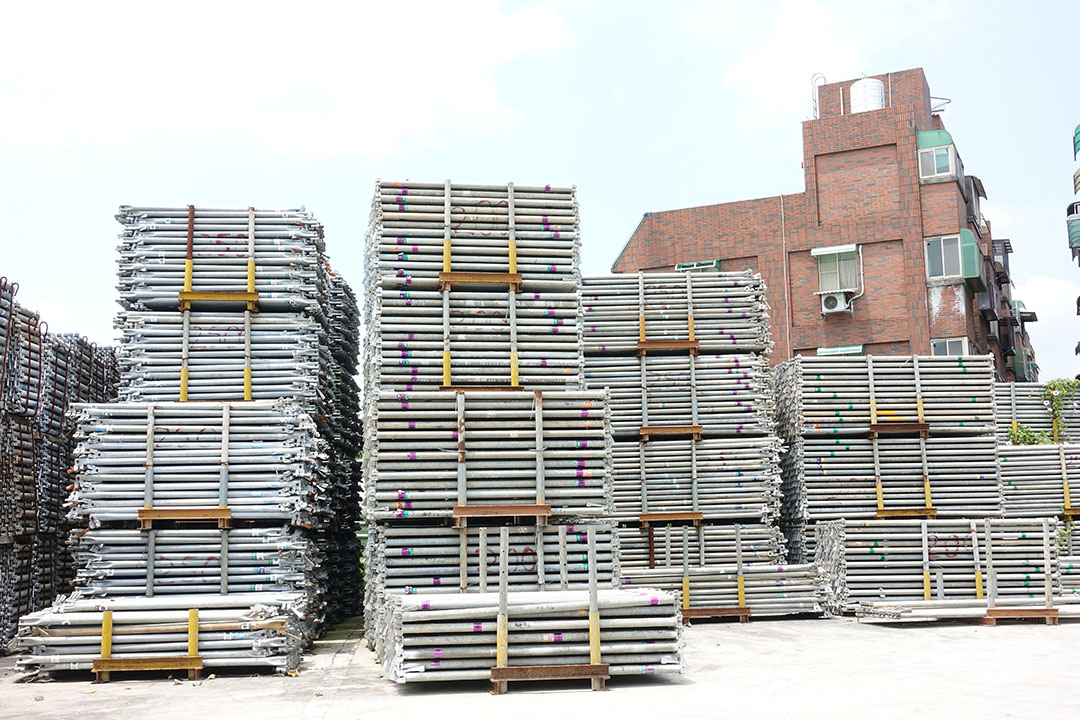building materials: (375, 526, 624, 668), (63, 529, 304, 665), (369, 393, 615, 526), (65, 402, 306, 528), (373, 177, 581, 293), (115, 202, 316, 313), (840, 519, 1063, 619), (375, 291, 584, 392), (111, 312, 318, 405), (797, 354, 997, 438), (797, 439, 1004, 520), (584, 354, 779, 439), (618, 527, 790, 623), (582, 270, 768, 355), (613, 440, 783, 526)
